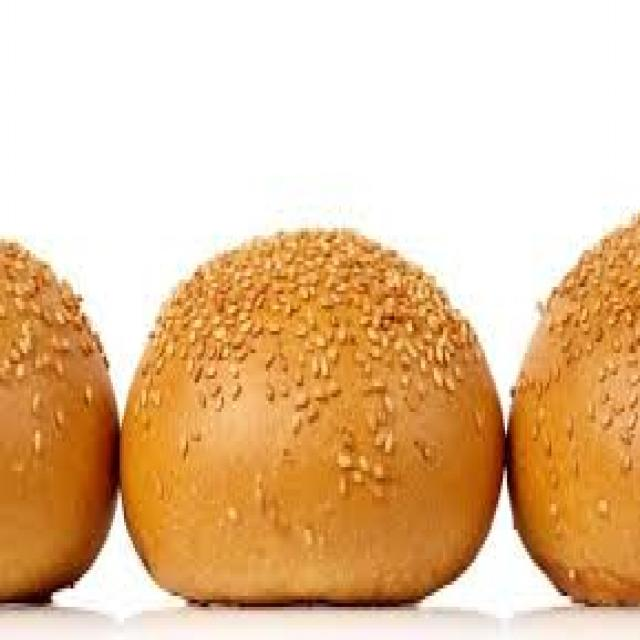organic waste: (117, 224, 503, 607), (500, 206, 638, 603), (0, 235, 117, 606)
